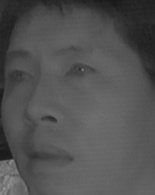eye: (63, 61, 100, 84), (6, 68, 36, 86)
mouth: (21, 139, 74, 173)
